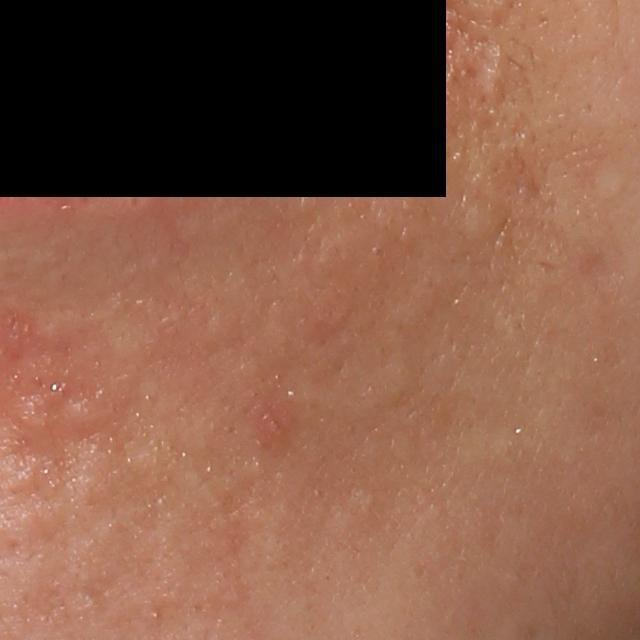hypertrophic_scar: (101, 312, 164, 376), (453, 199, 517, 249), (482, 41, 508, 103)
